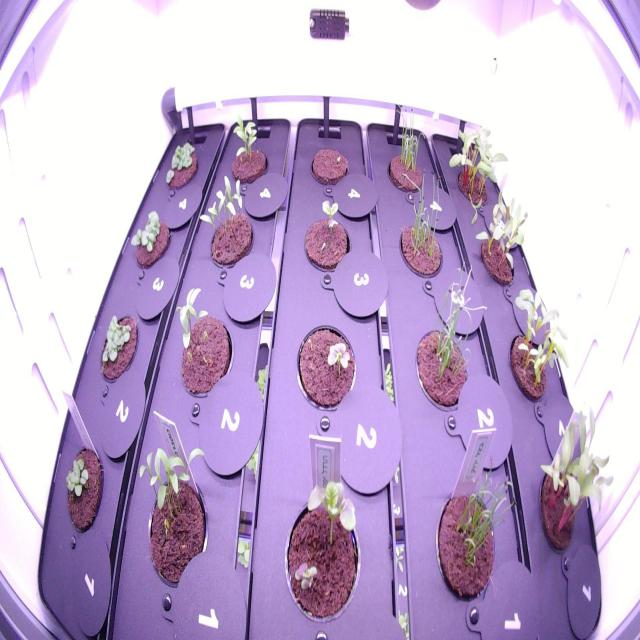germination: (432, 414, 526, 627), (272, 468, 367, 626), (535, 390, 619, 567), (410, 252, 492, 429), (134, 437, 217, 598), (500, 269, 577, 408), (284, 310, 364, 424), (168, 282, 238, 408), (468, 170, 536, 292), (391, 159, 450, 288), (194, 169, 261, 281), (444, 110, 510, 214), (57, 434, 113, 544), (382, 97, 434, 203), (295, 189, 352, 282), (220, 112, 272, 196), (94, 304, 141, 392), (124, 199, 174, 274), (161, 134, 202, 196)
pod: (304, 140, 354, 195)
